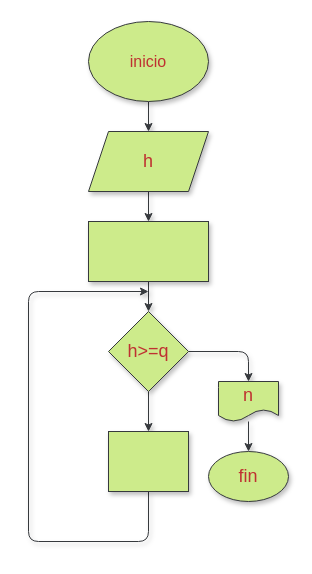
Image size: 312x574. Some labels were removed from this diagram. The centre of each missing label's shape, as x and y in pixels:
"h=0.9*h n=n+1" belongs at pixel 149 462.
"q=h/5 n=0" belongs at pixel 149 252.
